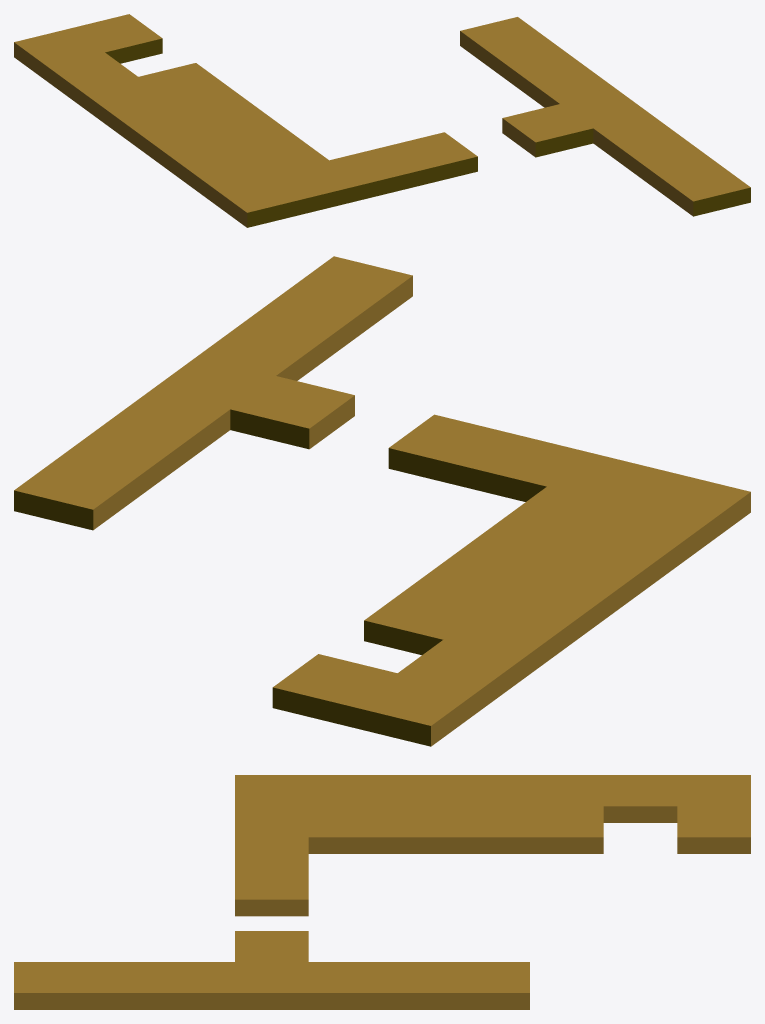
File: cubo_2.FBX
The picture shows the model from 3 angles, top to bottom: view 1: azimuth 30°, elevation 25°; view 2: azimuth 150°, elevation 25°; view 3: azimuth 270°, elevation 25°; orthographic projection. The views are drawn at different scales.
Visible parts, largest first — view 1: Box001; view 2: Box001; view 3: Box001.
Boxes of the visible parts, x1,y1,x2,y2 form: Box001: [14, 14, 750, 227]; Box001: [14, 256, 750, 746]; Box001: [14, 775, 750, 1009].
Bounding box in the file's own units: 7 × 0.25 × 10.
